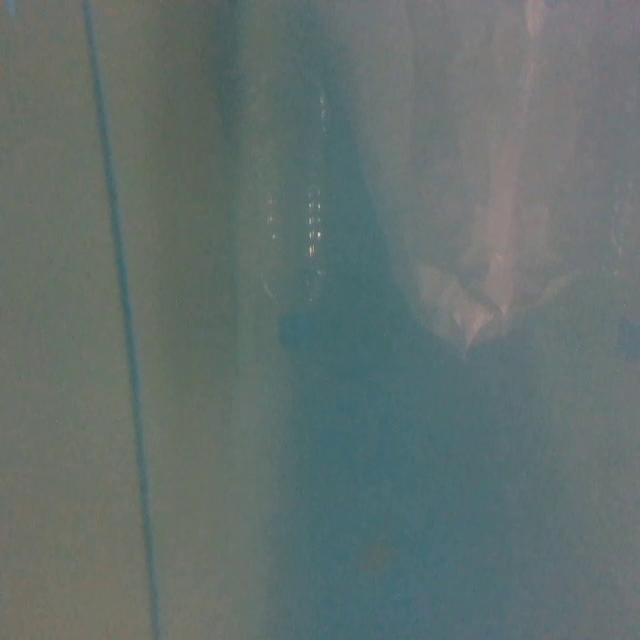plastic bags: (341, 4, 636, 354)
plastic bottle: (237, 65, 335, 349)
